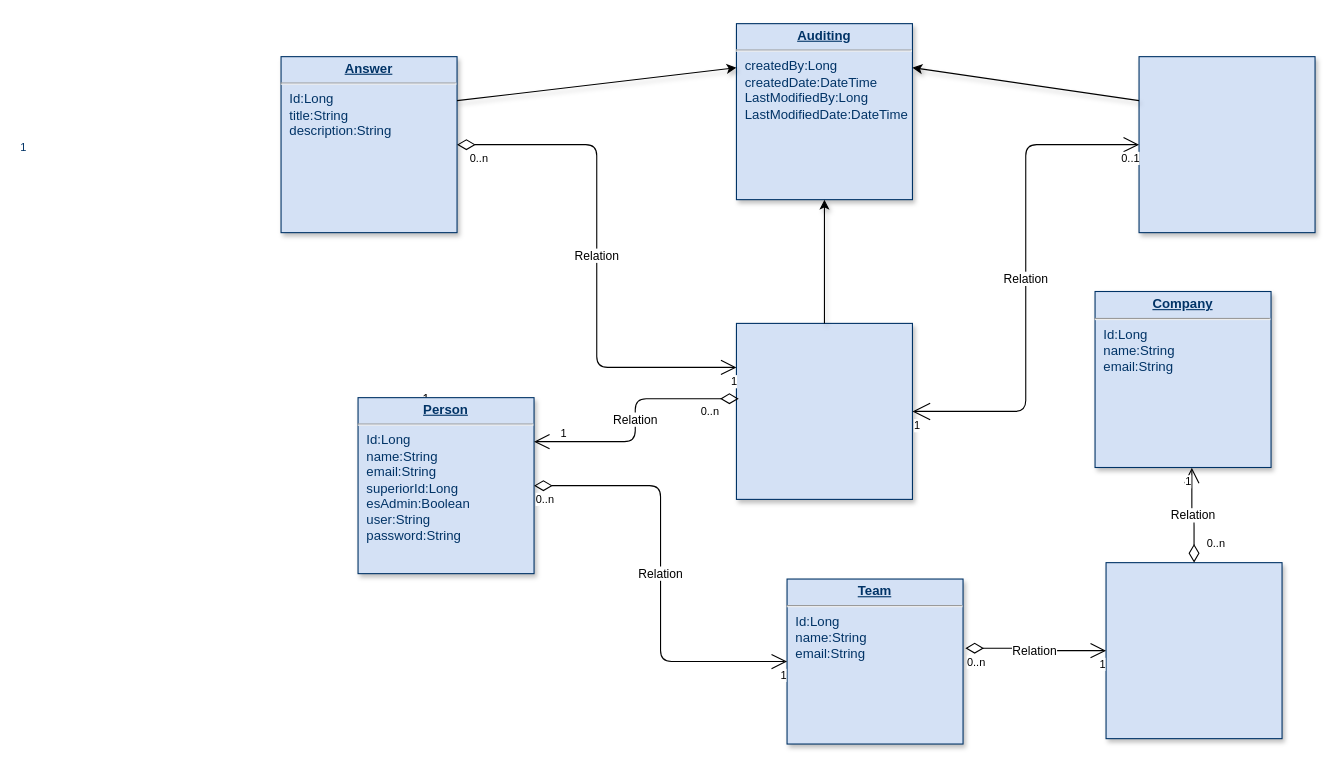
This 1341x771 diagram has some shape labels left out. The centre of each missing label's shape, as x and y in pixels:
"Department Id:Long name:String email:String" goes at (x=1195, y=651).
"Incidence Id:Long title:String description:String solved:Boolean" goes at (x=825, y=412).
"Solution Id:Long title:String description:String" goes at (x=1228, y=145).
